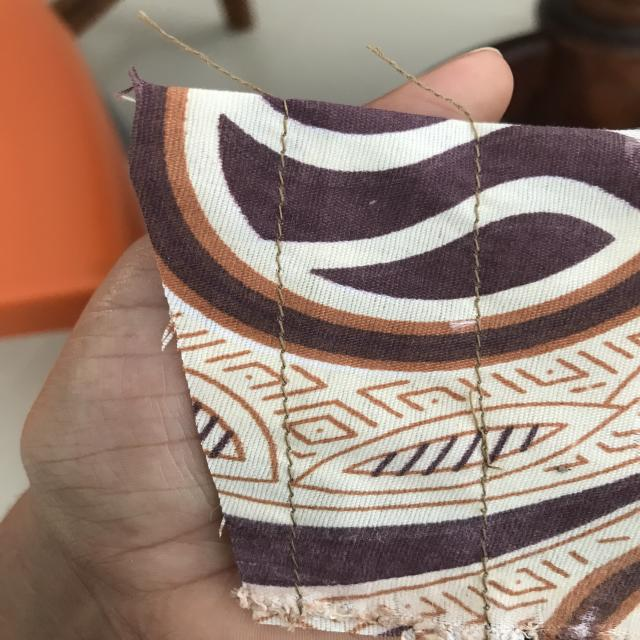good: (248, 170, 315, 365), (460, 195, 501, 332), (266, 404, 308, 523)
